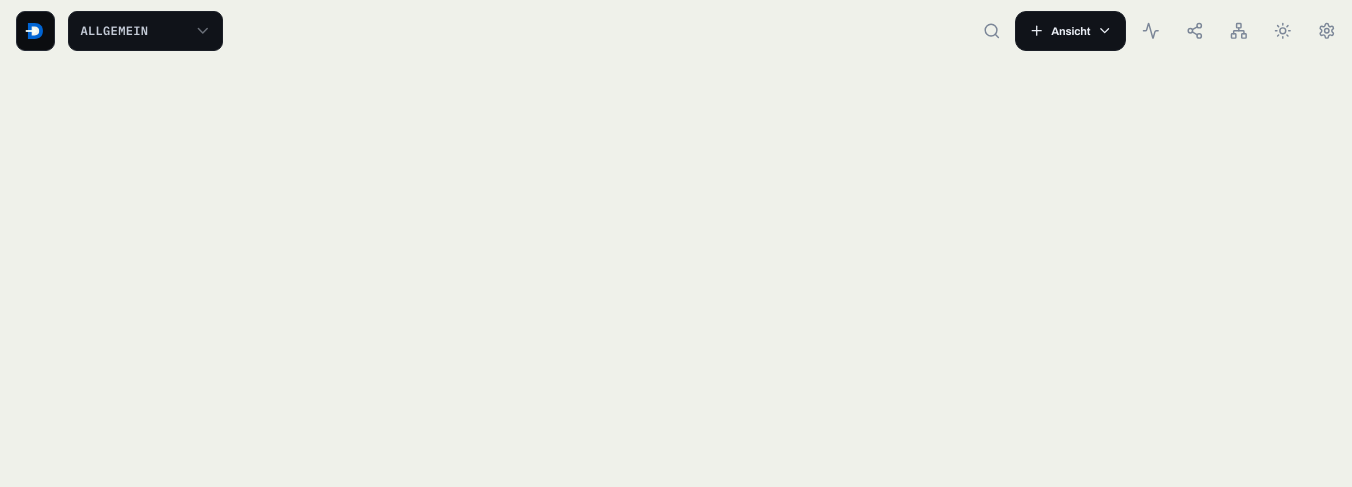
Test: GlobalSearch add-view menu › offers the same view types as the type selector inside a view, including Erkenntnisse
The image size is (1352, 487).
Step 1. Click the button titled "Ansicht" → (1071, 31), box [1015,11,1126,51]
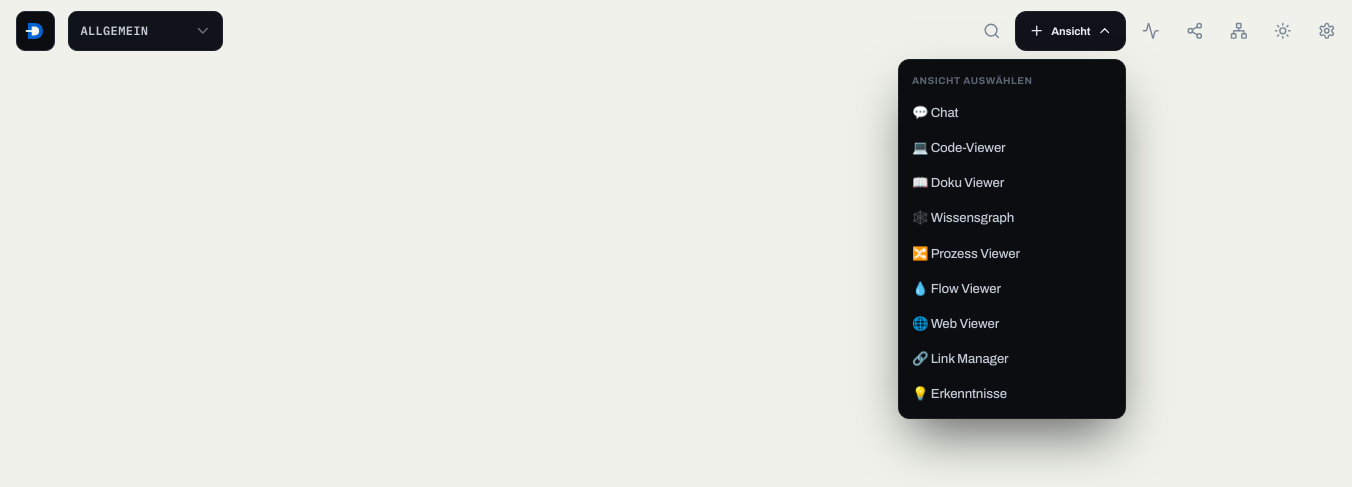
Expected: the button "💬 Chat" is shown, [899,95,1126,130]
Expected: the button "💻 Code-Viewer" is shown, [899,130,1126,165]
Expected: the button "📖 Doku Viewer" is shown, [899,165,1126,201]
